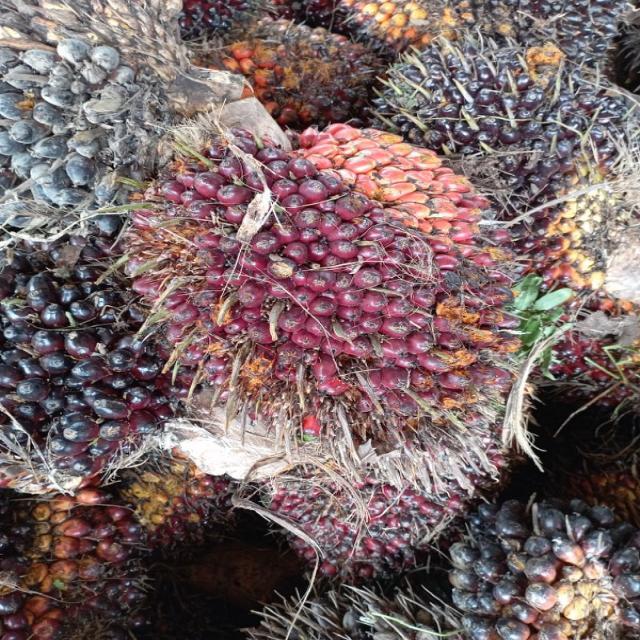fraksi 00: (344, 7, 640, 335), (0, 210, 214, 546)
fraksi 3: (90, 93, 584, 506)
